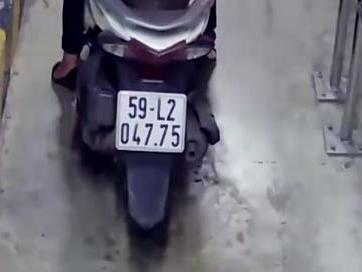num_plate: (117, 91, 187, 151)
